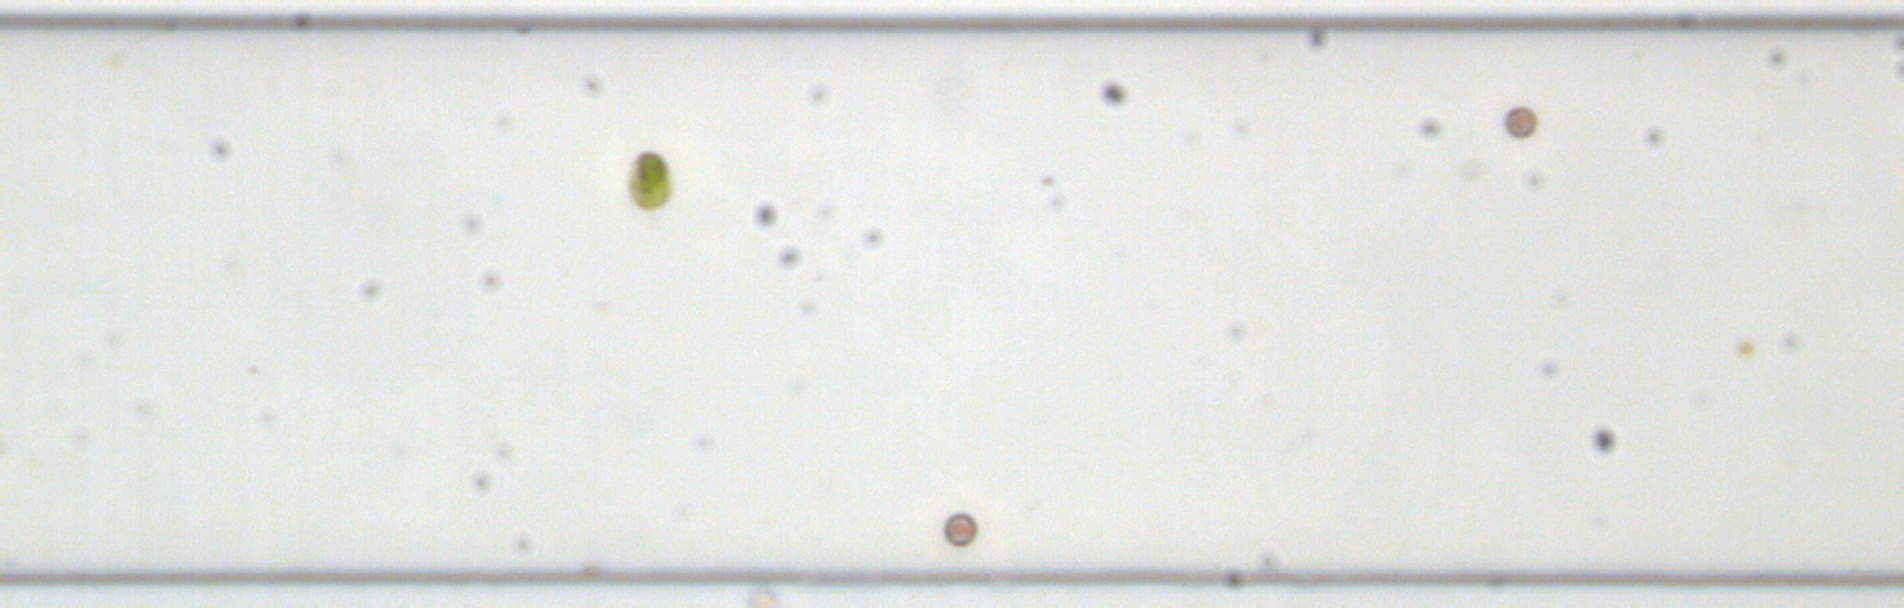Chlorella: (1501, 103, 1538, 140), (940, 510, 979, 545), (1735, 337, 1755, 354)
Platymonas: (625, 147, 671, 211)
